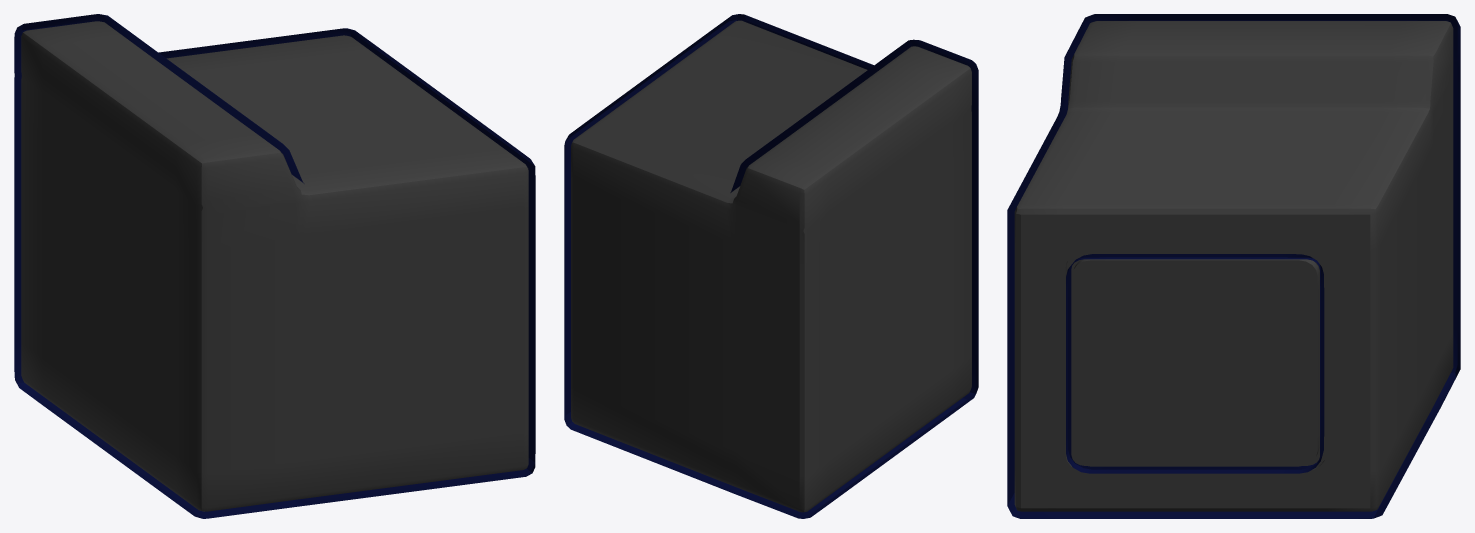
The picture shows the model from 3 angles, left to right: view 1: azimuth 30°, elevation 25°; view 2: azimuth 150°, elevation 25°; view 3: azimuth 270°, elevation 25°; orthographic projection. The views are drawn at different scales.
Parts seen in each view (by area): view 1: Dryer; view 2: Dryer; view 3: Dryer.
Part boxes in pixels (x1,y1,x2,y2): Dryer: (14, 14, 535, 518); Dryer: (564, 14, 978, 518); Dryer: (1007, 14, 1460, 518).
Bounding box in the file's own units: 0.8125 × 0.9163 × 1.03.
